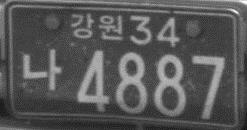3: (129, 14, 152, 46)
4: (76, 50, 110, 111), (156, 16, 180, 47)
7: (190, 55, 225, 118)
8: (153, 53, 186, 117), (115, 51, 148, 113)
강원_O: (70, 13, 124, 41)
나: (22, 48, 61, 89)
